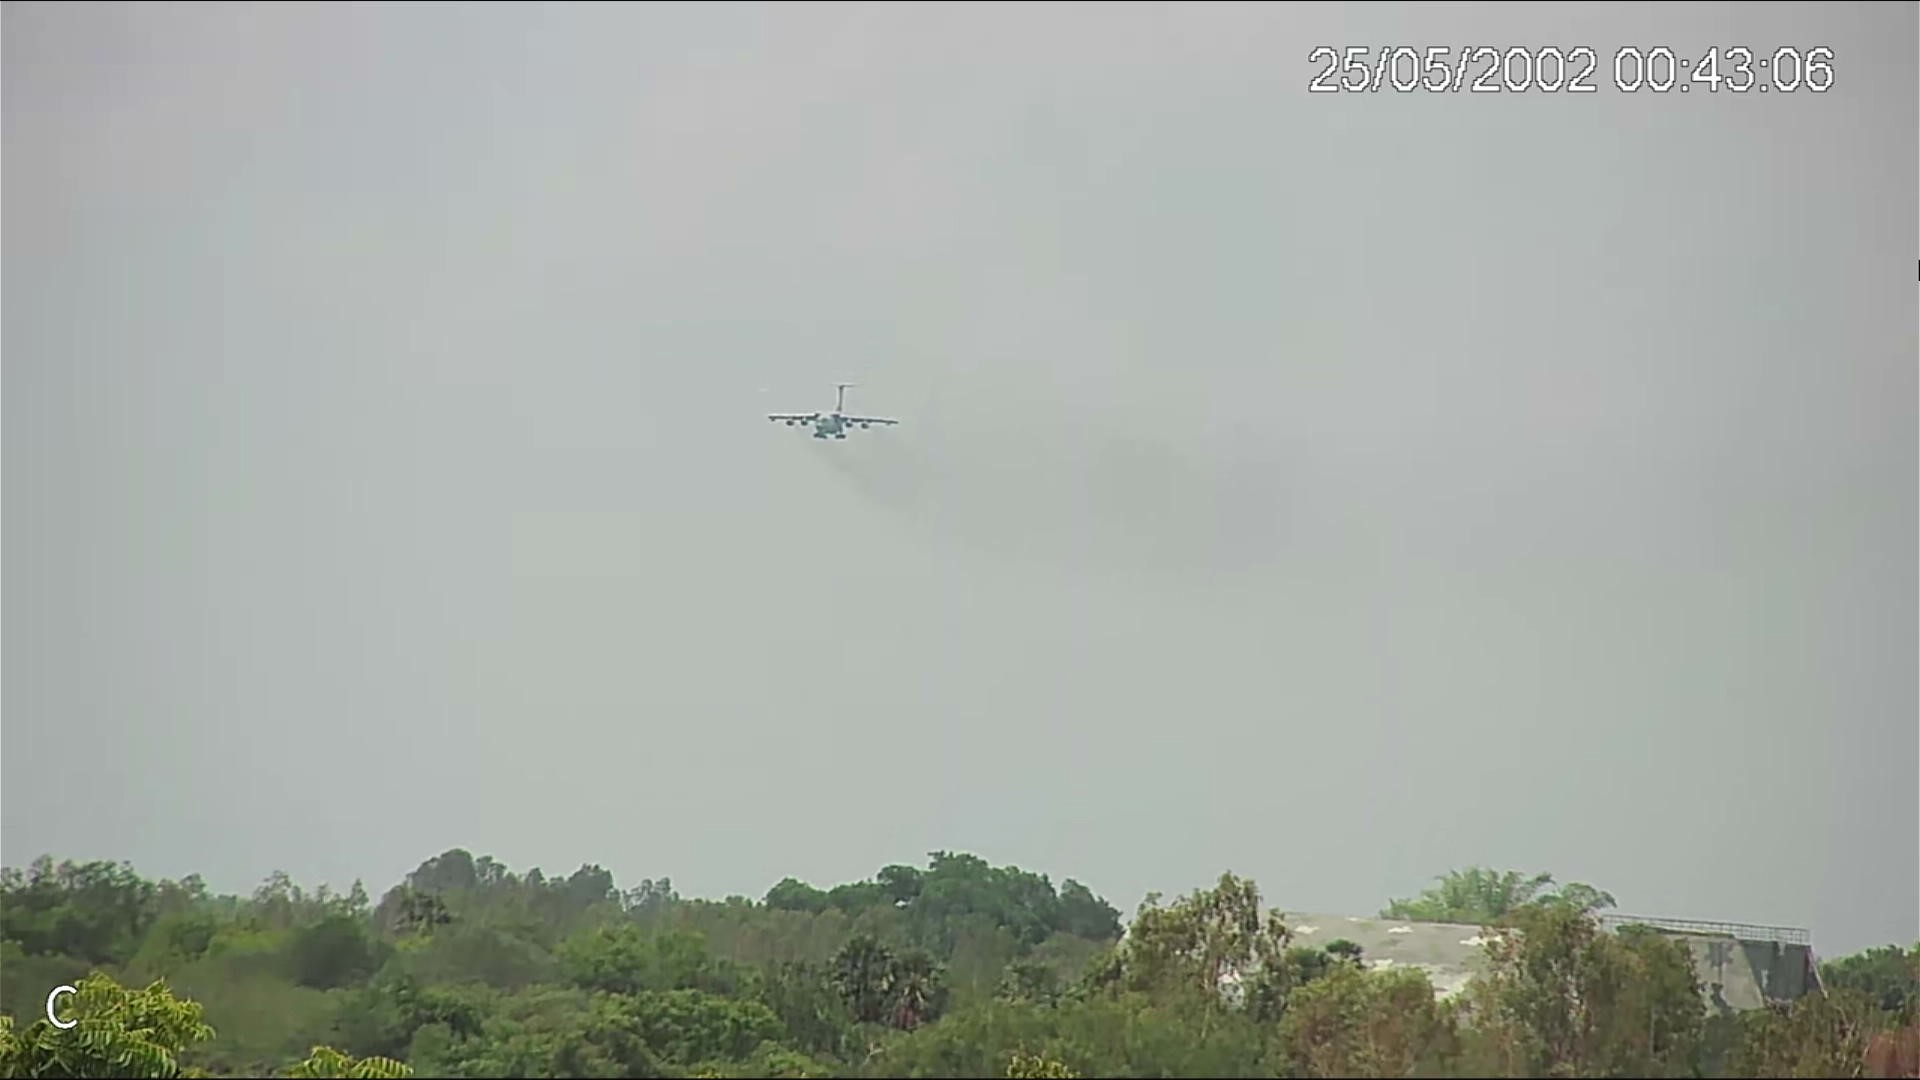SU_30: (764, 381, 903, 440)
